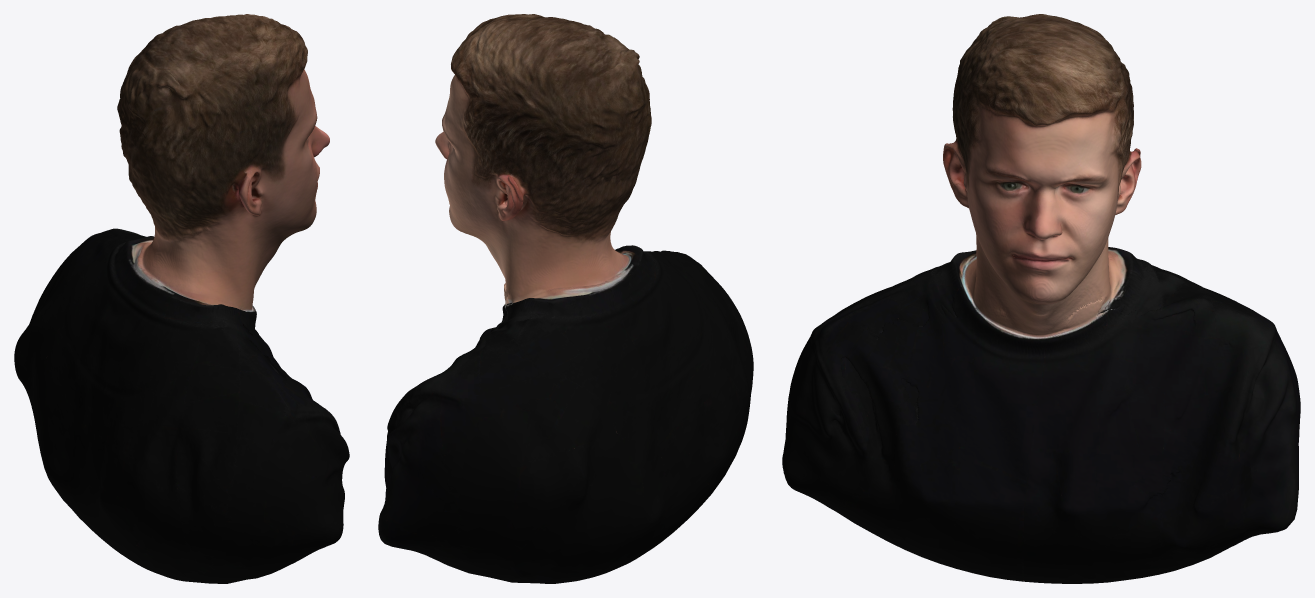
File: greg.glb
3 renders of one model, left to right at view 1: azimuth 30°, elevation 25°; view 2: azimuth 150°, elevation 25°; view 3: azimuth 270°, elevation 25°, orthographic. The views are drawn at different scales.
Size of the model in its own units: 1.03 by 2 by 1.68.
Materials: 1 (1 with a texture image).
